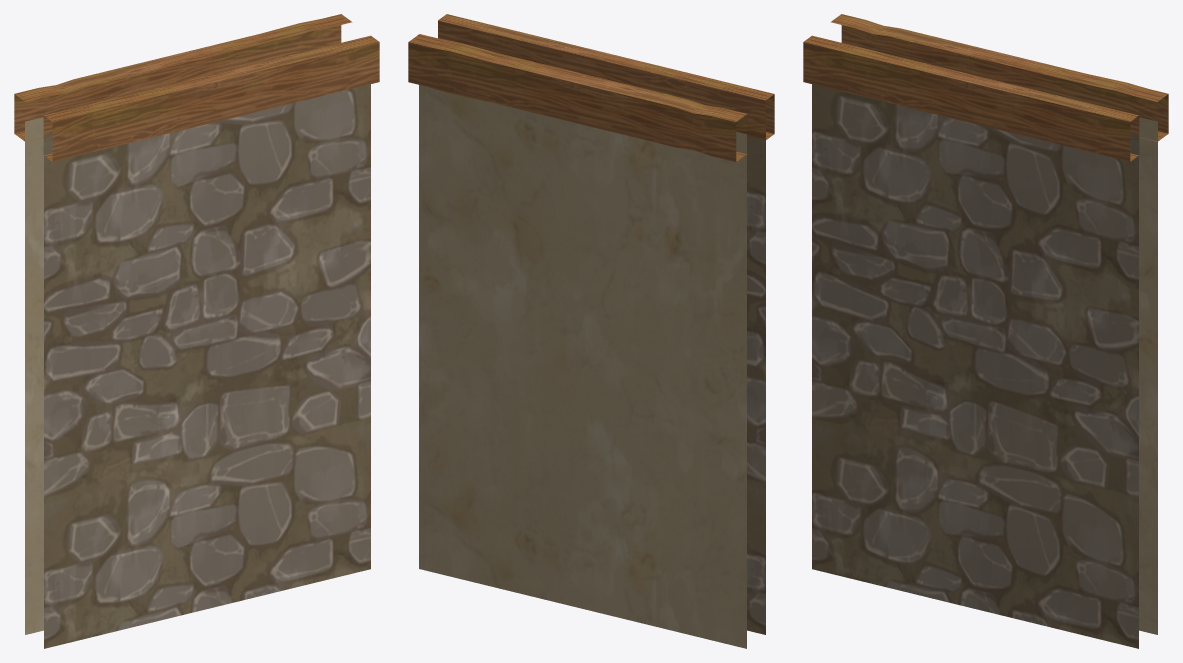
The model's file is castle-wall.glb.
The picture shows the model from 3 angles, left to right: view 1: azimuth 30°, elevation 25°; view 2: azimuth 150°, elevation 25°; view 3: azimuth 330°, elevation 25°; orthographic projection.
Visible parts, largest first — view 1: Wall_UnevenBrick_Straight; view 2: Wall_UnevenBrick_Straight; view 3: Wall_UnevenBrick_Straight.
Boxes of the visible parts, x1=… form: Wall_UnevenBrick_Straight: x1=14, y1=14, x2=379, y2=648; Wall_UnevenBrick_Straight: x1=408, y1=14, x2=774, y2=648; Wall_UnevenBrick_Straight: x1=803, y1=14, x2=1168, y2=648.
Bounding box in the file's own units: 2 × 3.12 × 0.4065.
3 materials, 3 textured.
